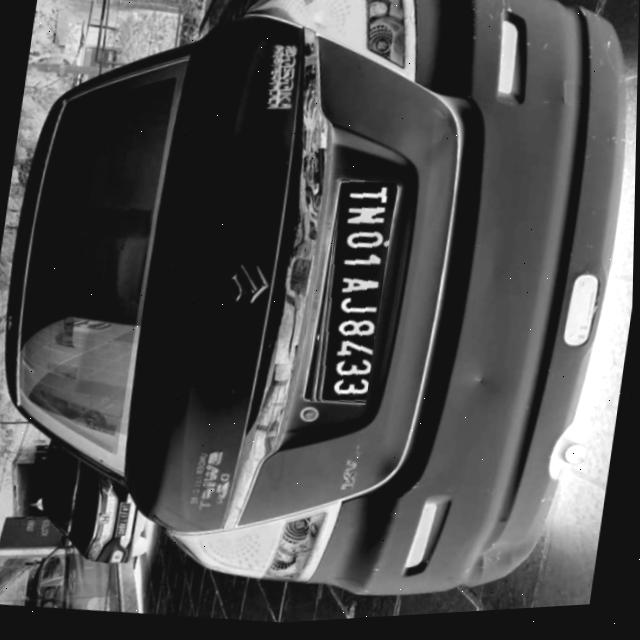Non_registered: (312, 180, 399, 411)
